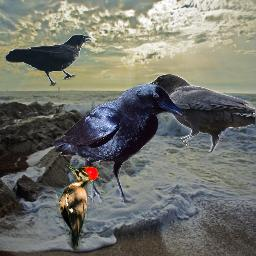Crow: (55, 84, 183, 207), (139, 74, 255, 152), (5, 34, 93, 86)
Woodpecker: (55, 164, 99, 251)
